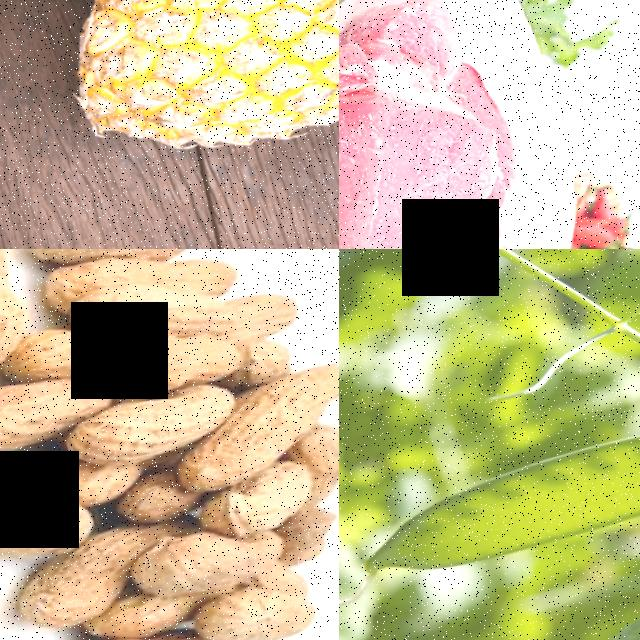chilli: (556, 229, 622, 249)
peanuts: (66, 366, 237, 473), (130, 502, 298, 607), (73, 253, 233, 352), (5, 533, 136, 640), (102, 305, 246, 401), (0, 353, 117, 462), (212, 361, 339, 460), (203, 449, 329, 538), (199, 560, 331, 640), (0, 424, 53, 566), (219, 270, 316, 341), (20, 249, 181, 276), (74, 610, 216, 640)
pineapple: (54, 0, 339, 203)
pork belly: (339, 0, 609, 249)
